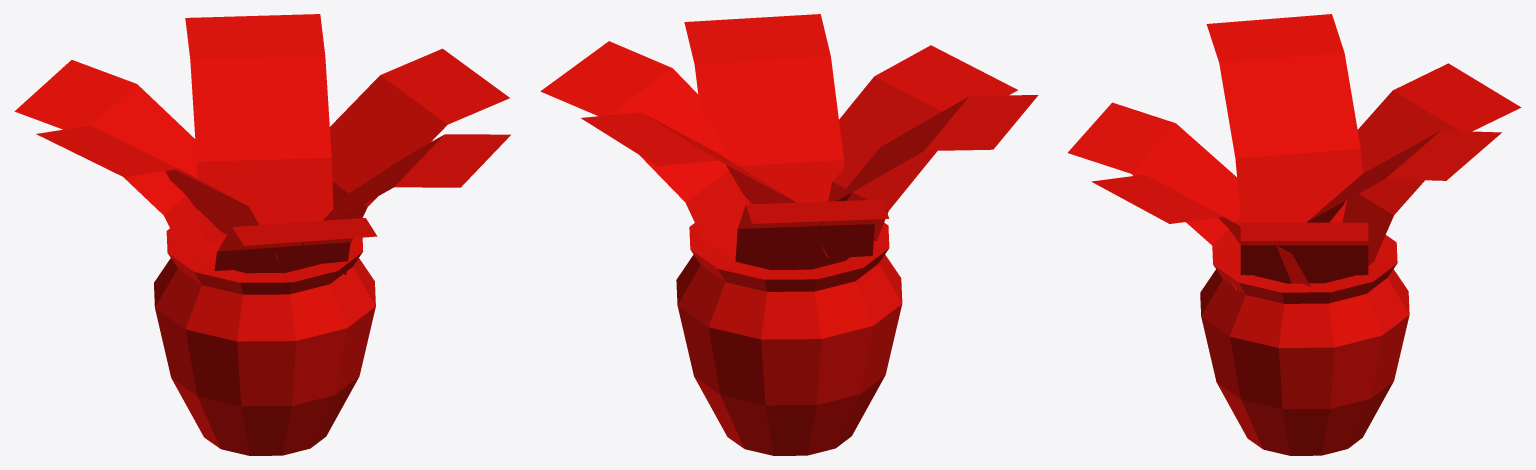
File: Model_Plant_R.fbx
The picture shows the model from 3 angles, left to right: view 1: azimuth 30°, elevation 25°; view 2: azimuth 150°, elevation 25°; view 3: azimuth 270°, elevation 25°; orthographic projection. The views are drawn at different scales.
Visible parts, largest first — view 1: Plane.003; view 2: Plane.003; view 3: Plane.003.
Part boxes in pixels (box(x1,y1,x2,y2)): Plane.003: box(14, 14, 510, 455); Plane.003: box(540, 14, 1038, 455); Plane.003: box(1067, 14, 1521, 455).
Bounding box in the file's own units: 505 × 382 × 494.
